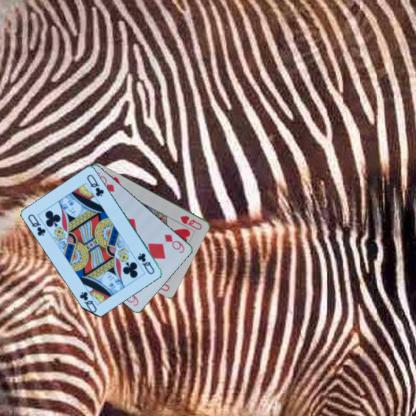6d: (162, 232, 186, 254)
Qc: (25, 212, 48, 238), (135, 250, 156, 276)
Qh: (178, 213, 203, 231)
